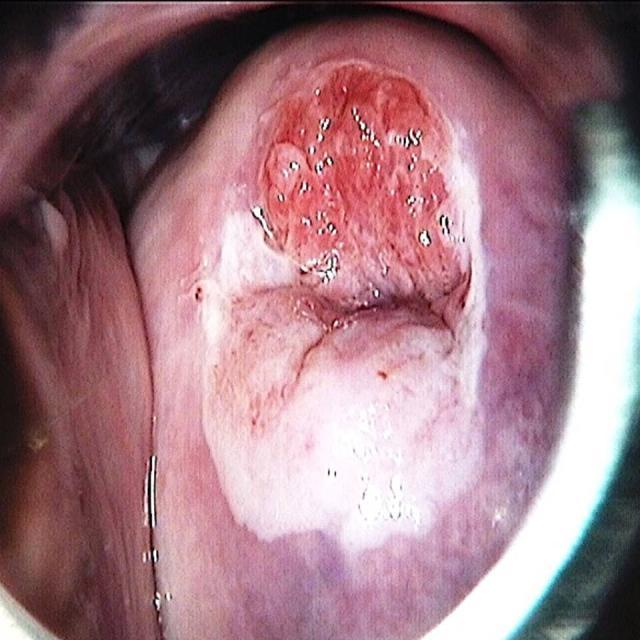cervical_lesion: (200, 64, 495, 558)
